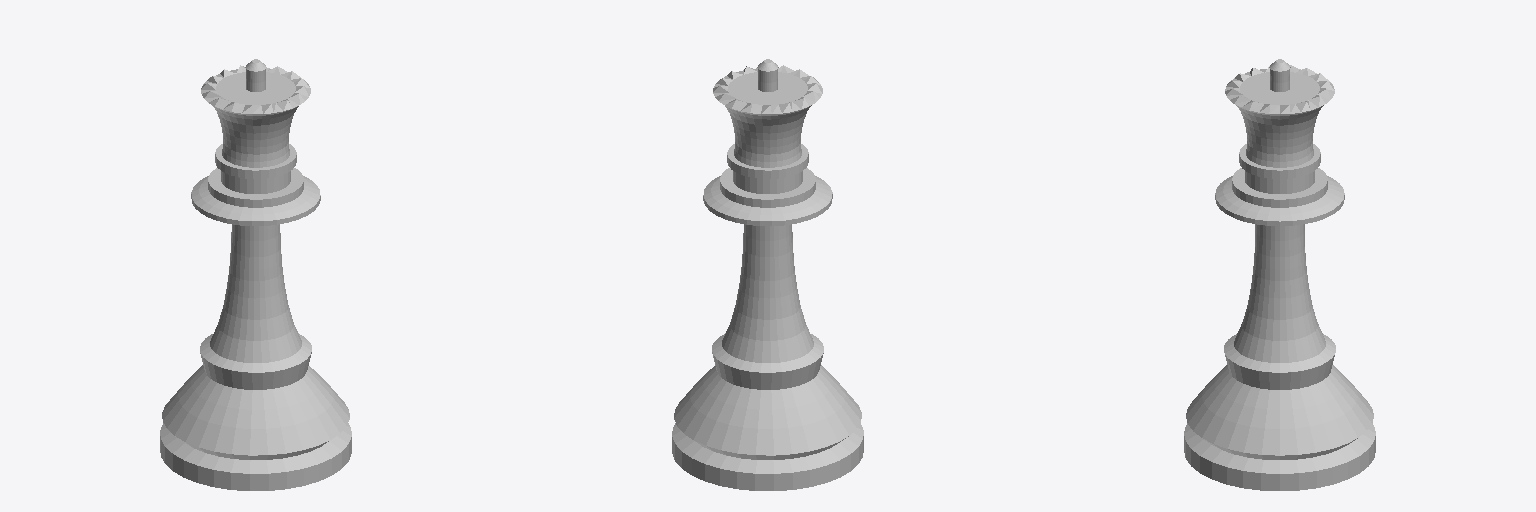
The model's file is queen.obj.
The picture shows the model from 3 angles: view 1: azimuth 30°, elevation 25°; view 2: azimuth 150°, elevation 25°; view 3: azimuth 270°, elevation 25°; orthographic projection.
Visible parts, largest first — view 1: Cylinder; view 2: Cylinder; view 3: Cylinder.
Part boxes in pixels (x1,y1,x2,y2): Cylinder: (160,59,351,490); Cylinder: (672,59,863,490); Cylinder: (1184,59,1375,490).
Size of the model in its own units: 2.22 by 4.96 by 2.22.